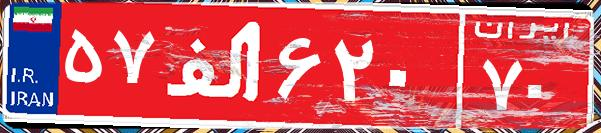0: (385, 28, 445, 110), (525, 38, 570, 115)
2: (330, 28, 385, 110)
5: (57, 26, 110, 107)
6: (273, 28, 330, 110)
7: (475, 38, 525, 113), (110, 28, 158, 105)
الف: (158, 15, 273, 115)
